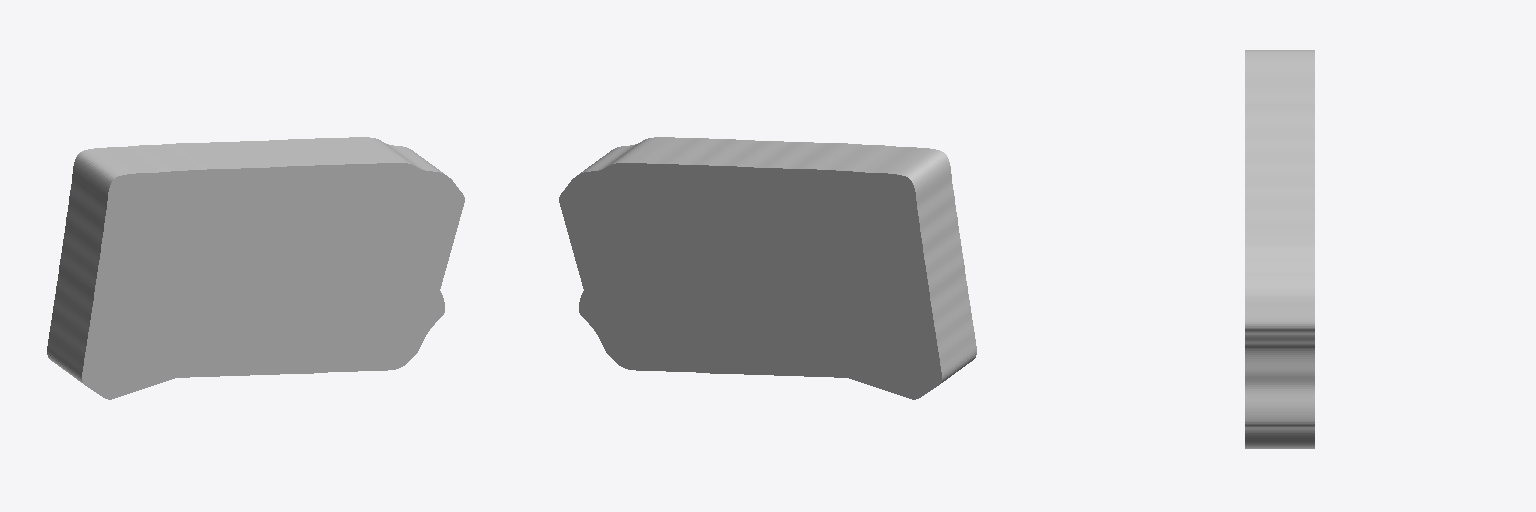
The picture shows the model from 3 angles: view 1: azimuth 30°, elevation 25°; view 2: azimuth 150°, elevation 25°; view 3: azimuth 270°, elevation 25°; orthographic projection.
Parts seen in each view (by area): view 1: 平面; view 2: 平面; view 3: 平面.
Boxes of the visible parts, <box> form: 平面: <box>47,137,464,399</box>; 平面: <box>559,137,976,399</box>; 平面: <box>1245,50,1314,448</box>.
Bounding box in the file's own units: 1.26 × 0.82 × 0.2.